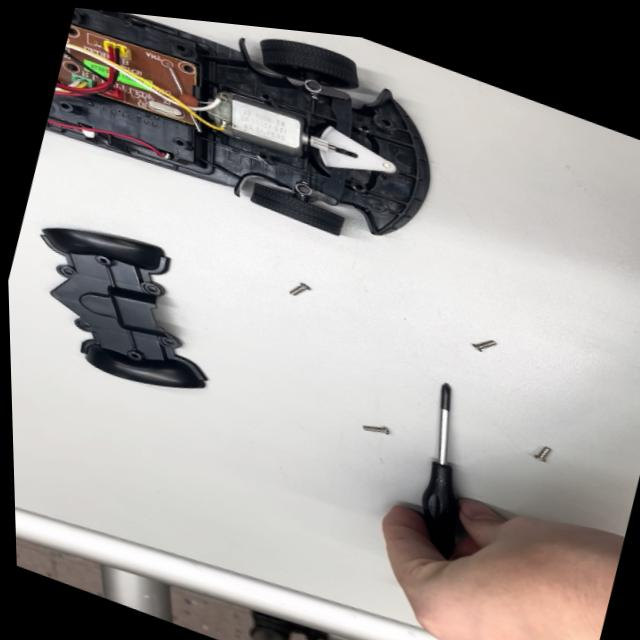Chassis: (39, 4, 463, 276)
motor: (189, 74, 339, 183)
motor_cover: (7, 197, 254, 415)
screw: (351, 411, 400, 449), (282, 272, 326, 309), (465, 328, 503, 366), (519, 435, 560, 469)
screw_driver: (394, 370, 478, 565)
wheel: (235, 24, 371, 103), (234, 172, 345, 247)
